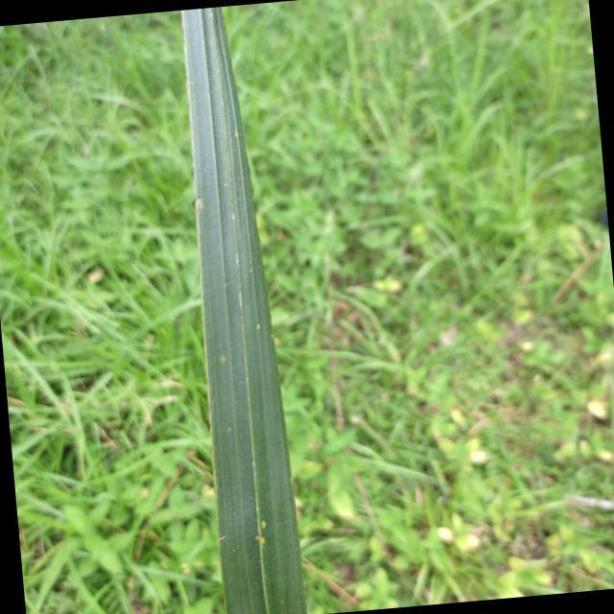Boron: (184, 1, 304, 614)
